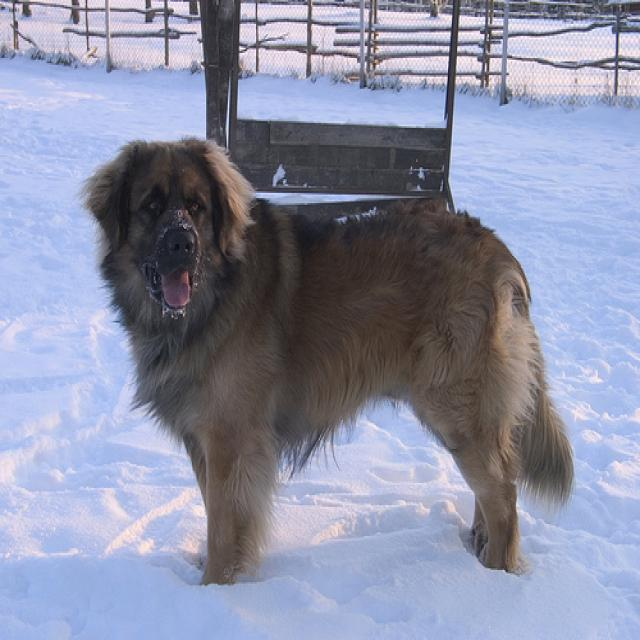dog-leonberger: (65, 123, 579, 608)
